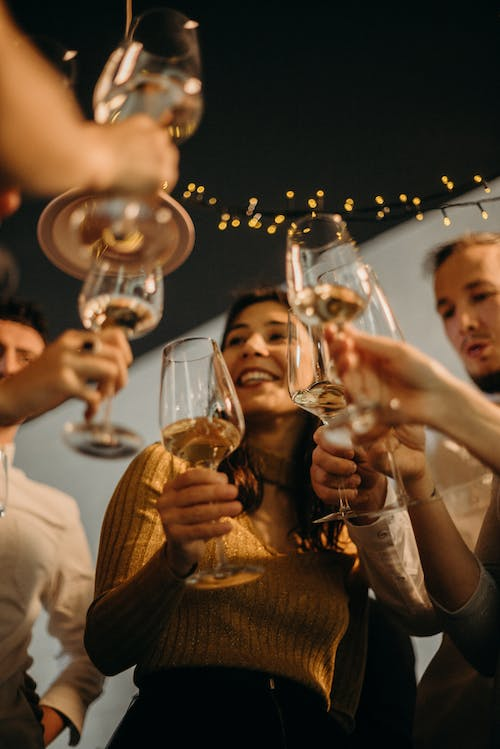alcohol: (34, 7, 206, 290), (316, 261, 444, 519), (156, 334, 267, 591), (284, 212, 398, 452), (59, 239, 166, 462), (286, 303, 383, 524)
